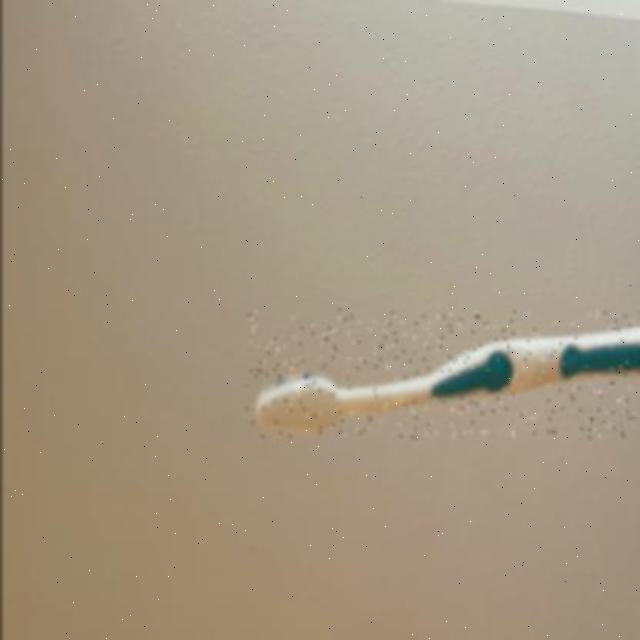toothbrush: (245, 310, 640, 438)
